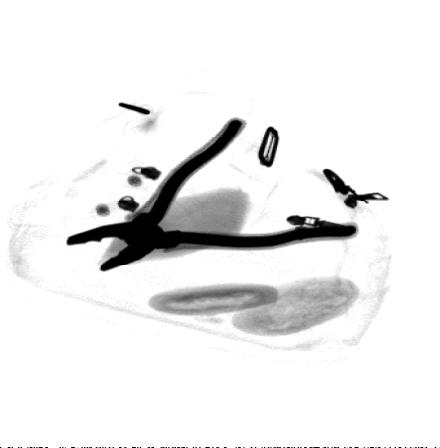Pliers: (65, 118, 361, 273)
